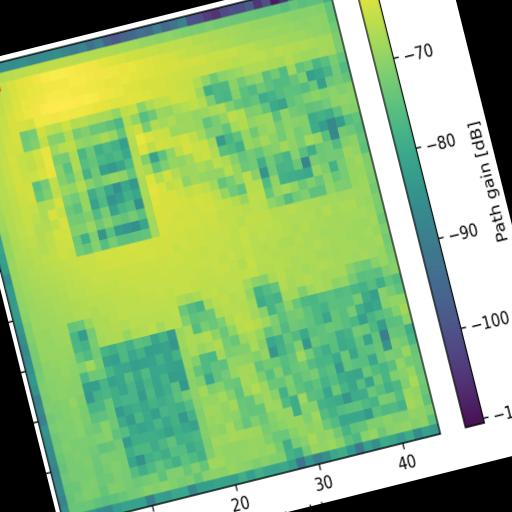Concrete: (236, 58, 353, 210)
Glass: (46, 108, 152, 256)
Metal: (282, 278, 407, 434)
Wood: (100, 330, 210, 488)
